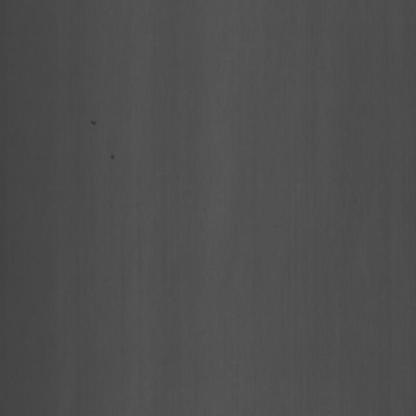inclusion: (106, 131, 122, 178), (83, 112, 102, 140)
